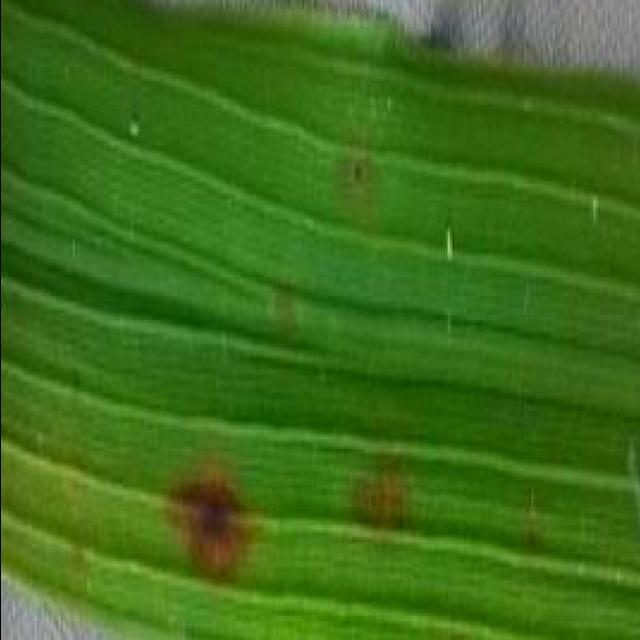Brown_Spot: (148, 449, 258, 595), (344, 456, 425, 556), (334, 146, 370, 192), (54, 356, 88, 402), (516, 520, 542, 556)
